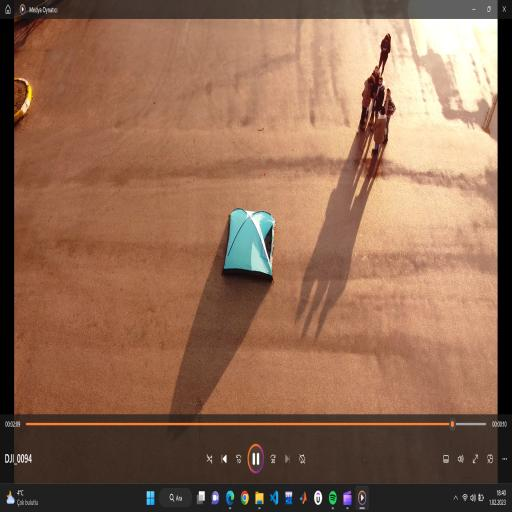tent: (221, 199, 279, 284)
